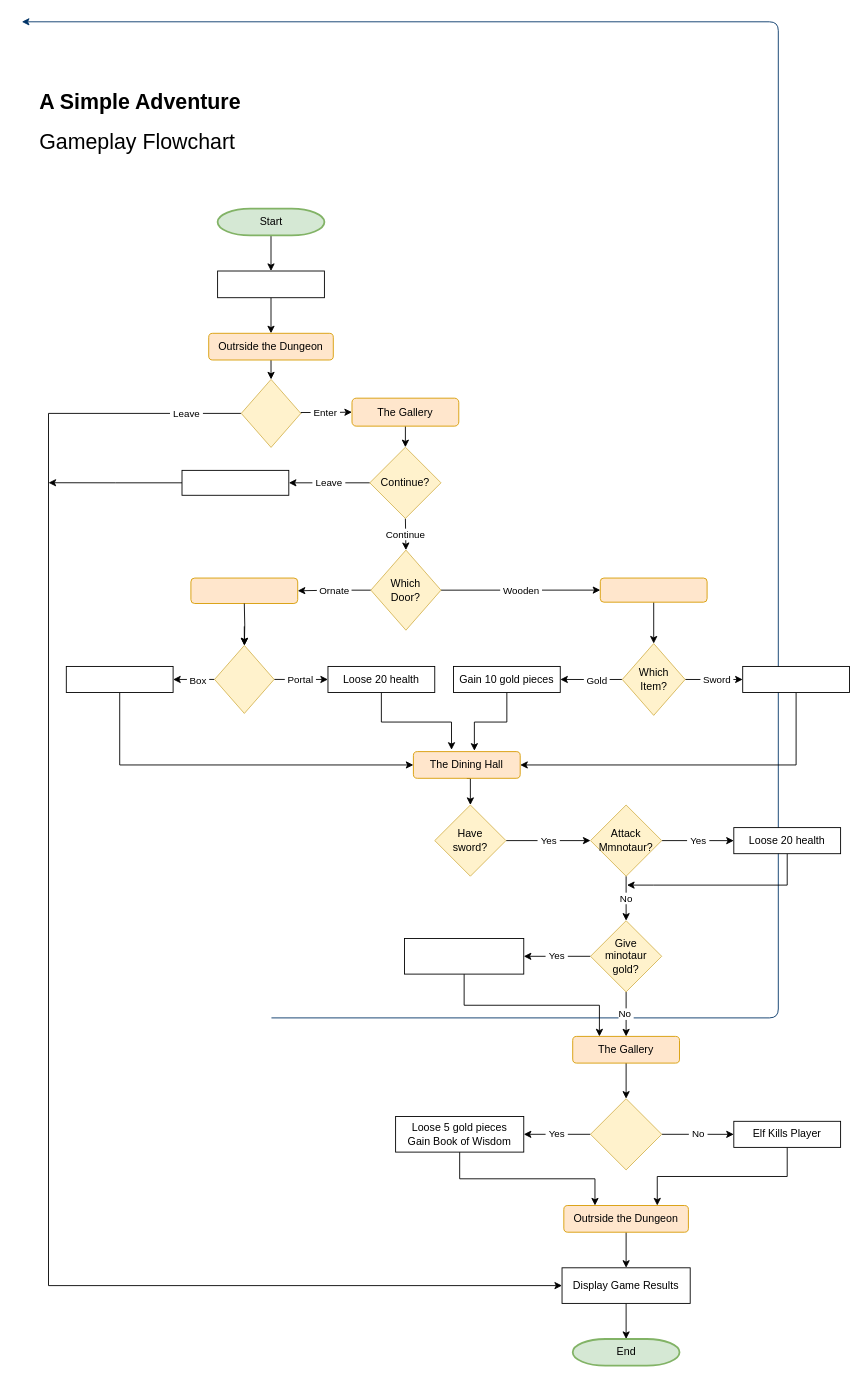
The diagram is 865 pixels wide and 1382 high, and some of its shapes have lost their labels. Here are the shapes that lost their labels. From the top down, the centre of each, then its label:
[270,284]: Great the Player
[270,413]: Play Game?
[235,482]: Gain 5 gold pieces
[244,590]: The Mirrored Room
[653,589]: The Armory
[119,679]: Gain 50 gold pieces
[244,679]: Choice?
[796,679]: Slayer Battle Sword
[464,956]: Loose 10 gold pieces Gain Life Potion
[626,1134]: Give elf gold?
